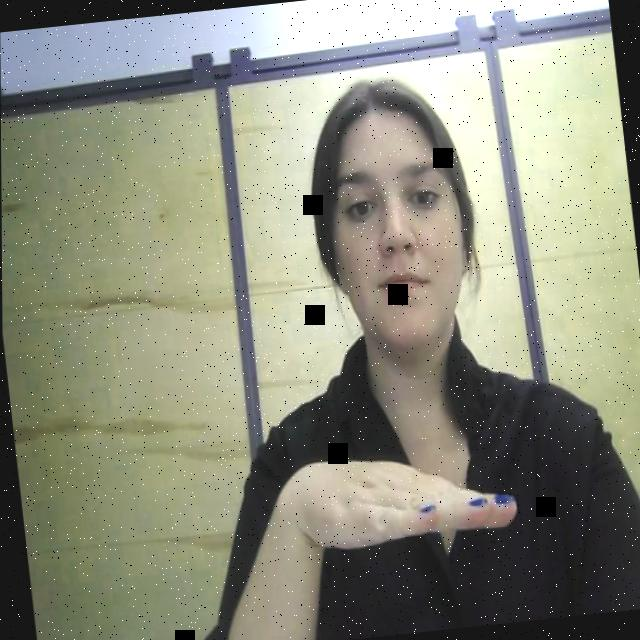Paper: (269, 422, 525, 583)
